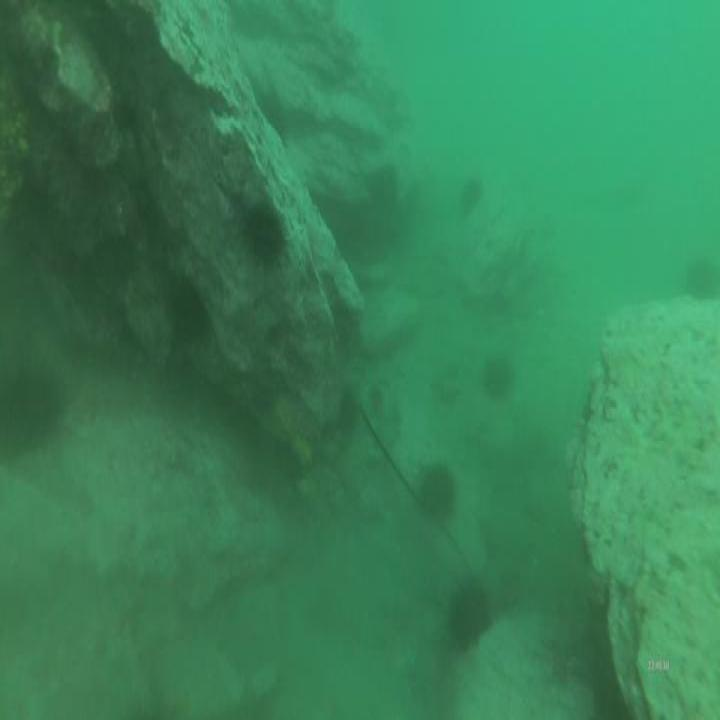echinus: (1, 362, 59, 460), (444, 576, 494, 654), (240, 199, 287, 272), (414, 454, 460, 526), (167, 266, 208, 346), (480, 345, 518, 407), (682, 254, 720, 308), (335, 384, 362, 439), (456, 173, 483, 222)
